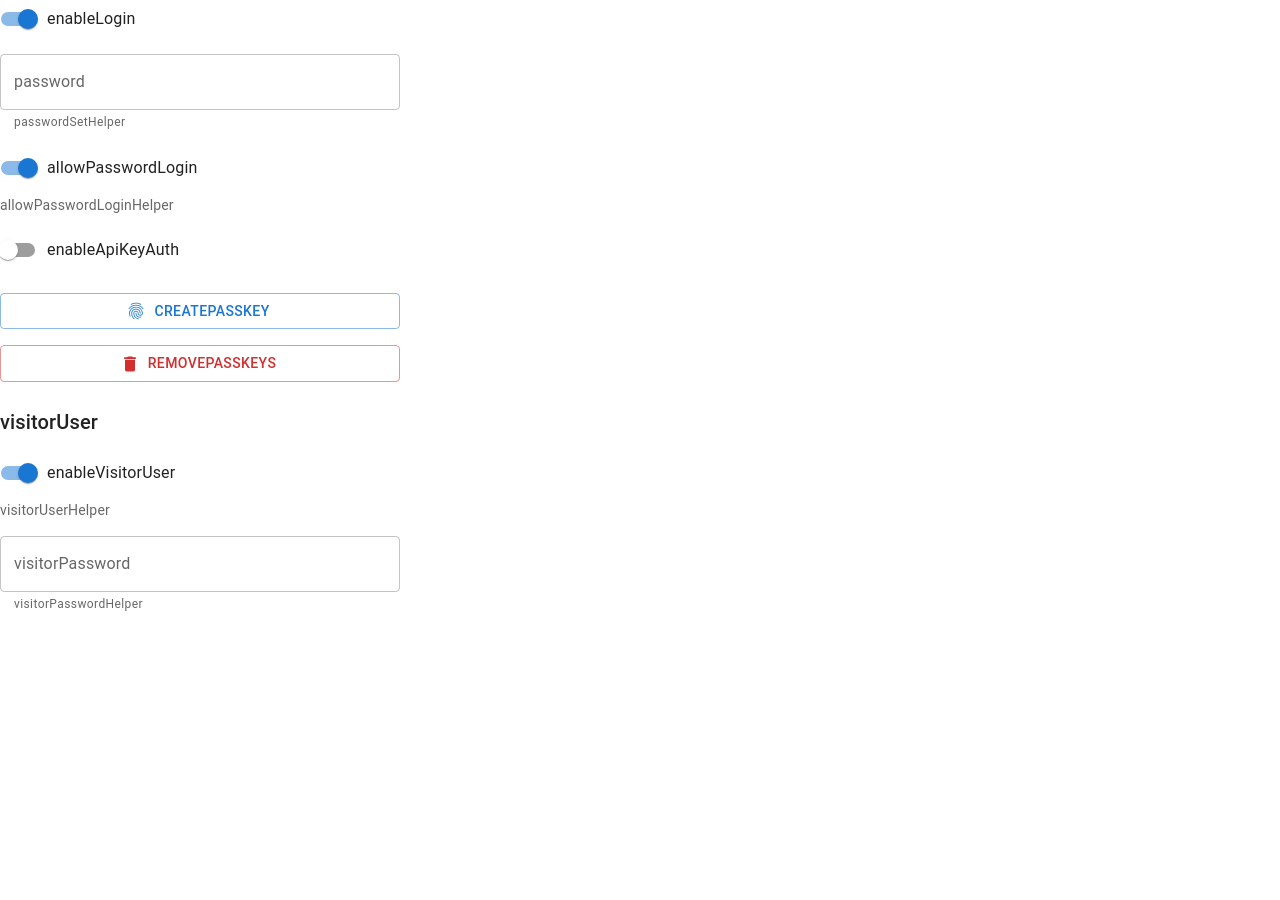
SecuritySettings › shows an error alert when removing passkeys fails
Click the button "removePasskeys". click: click(200, 364)
box: [0,345,400,382]
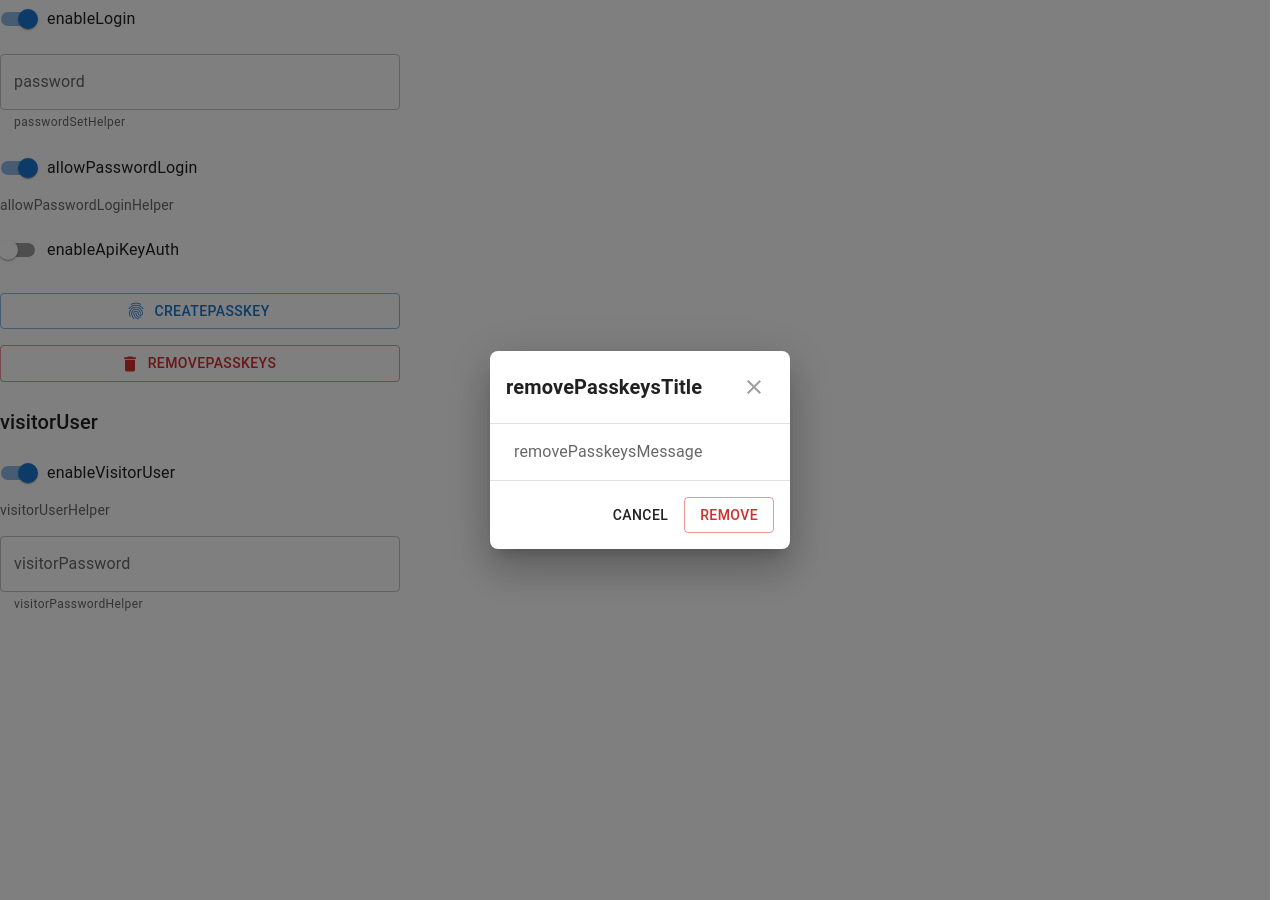
Click the button "remove". click: click(729, 515)
box: [684,497,774,533]
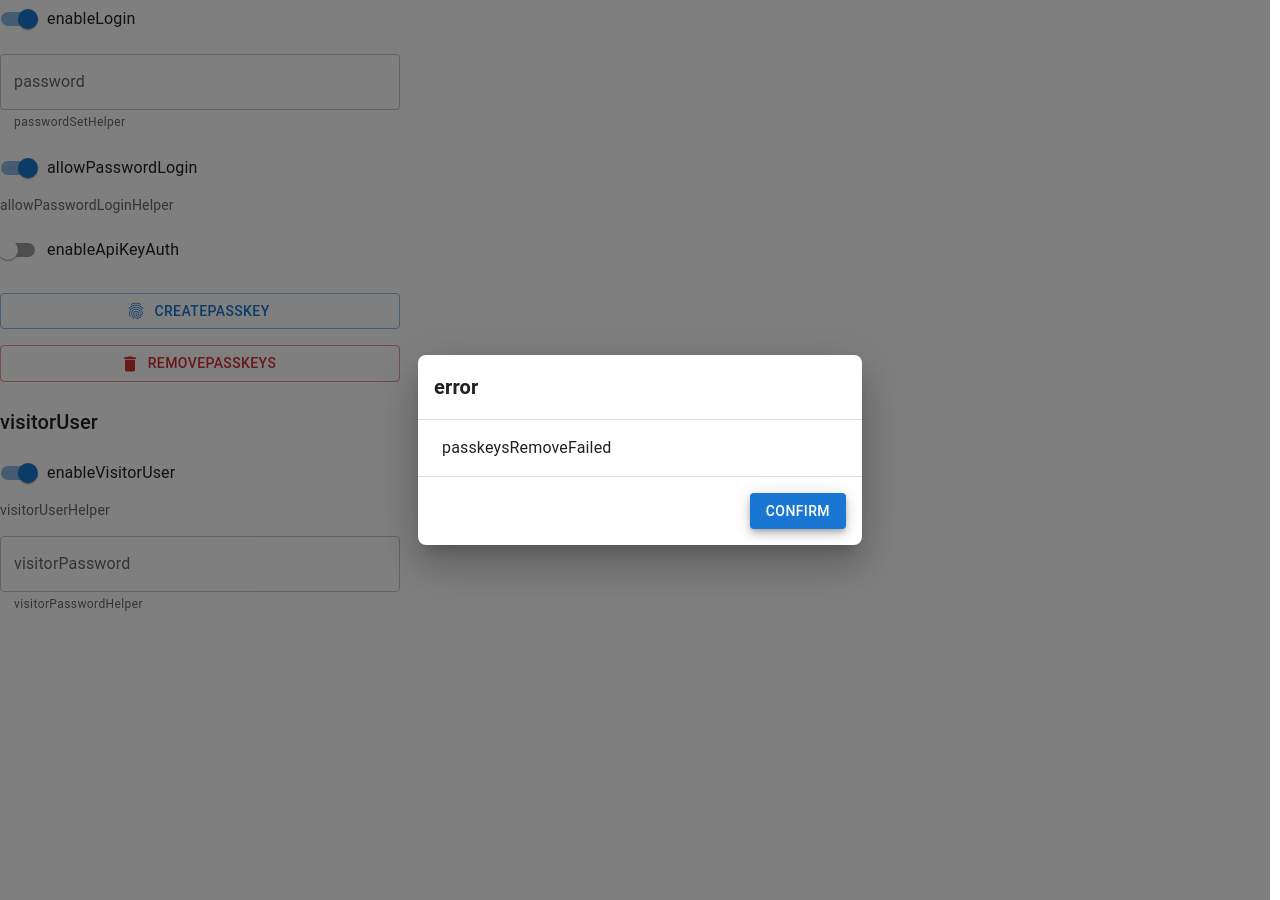
expect the text "passkeysRemoveFailed" is shown: met, box [442,438,612,457]
